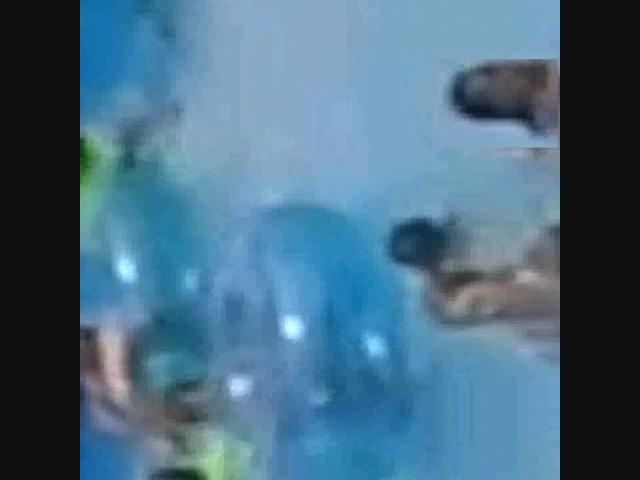drowning: (384, 177, 482, 267)
swimming: (438, 57, 560, 147), (412, 268, 560, 332), (141, 427, 272, 480), (80, 310, 142, 410)
